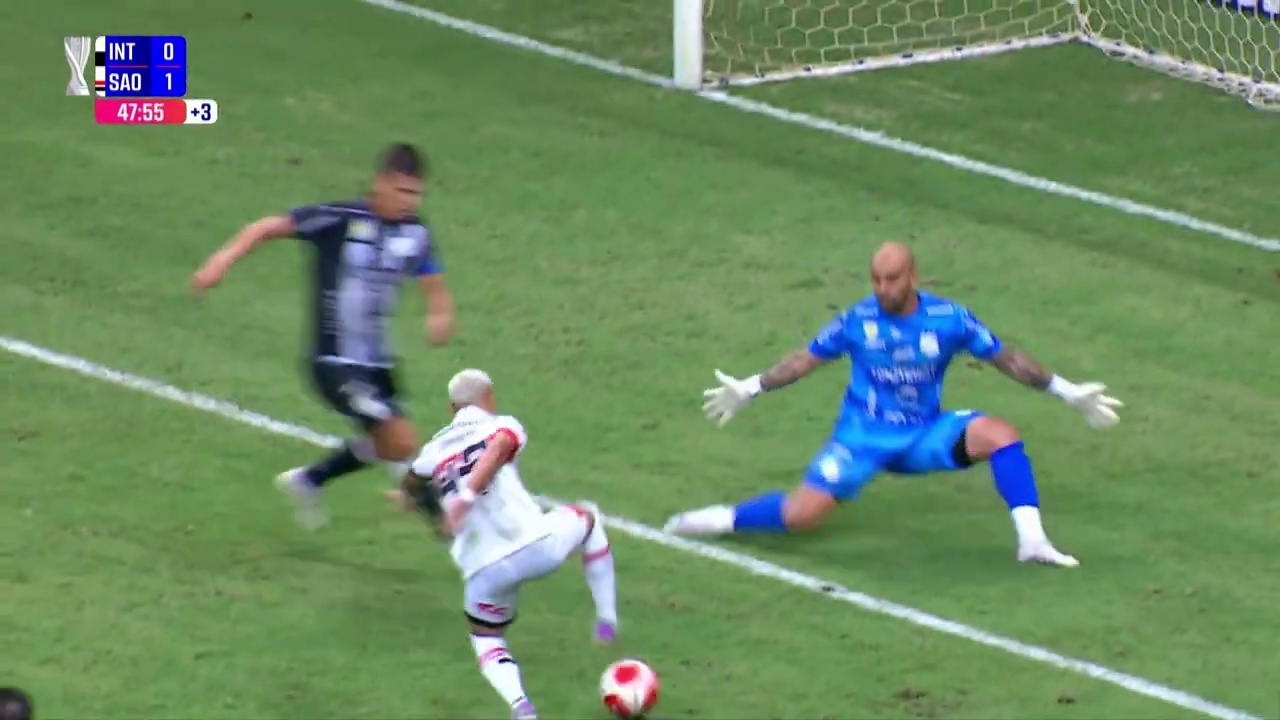ball: (675, 556, 720, 603)
